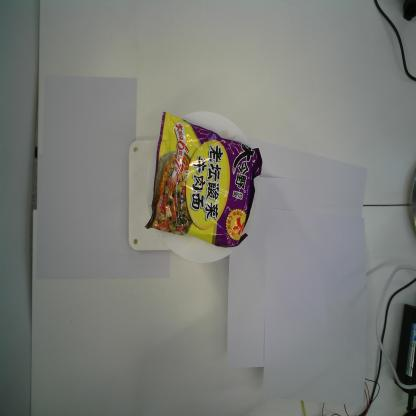Instant Noodles: (144, 111, 262, 249)
